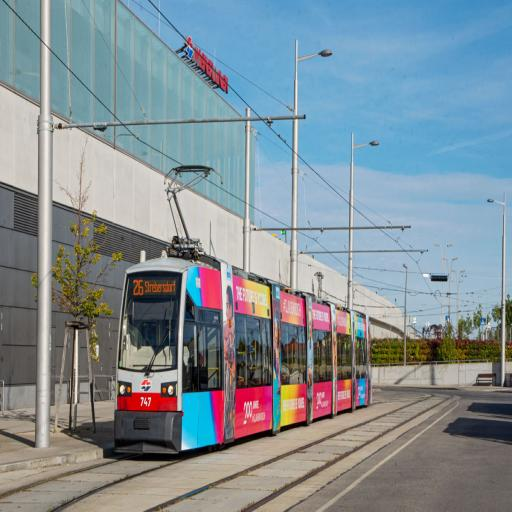ULF: (114, 247, 373, 459)
